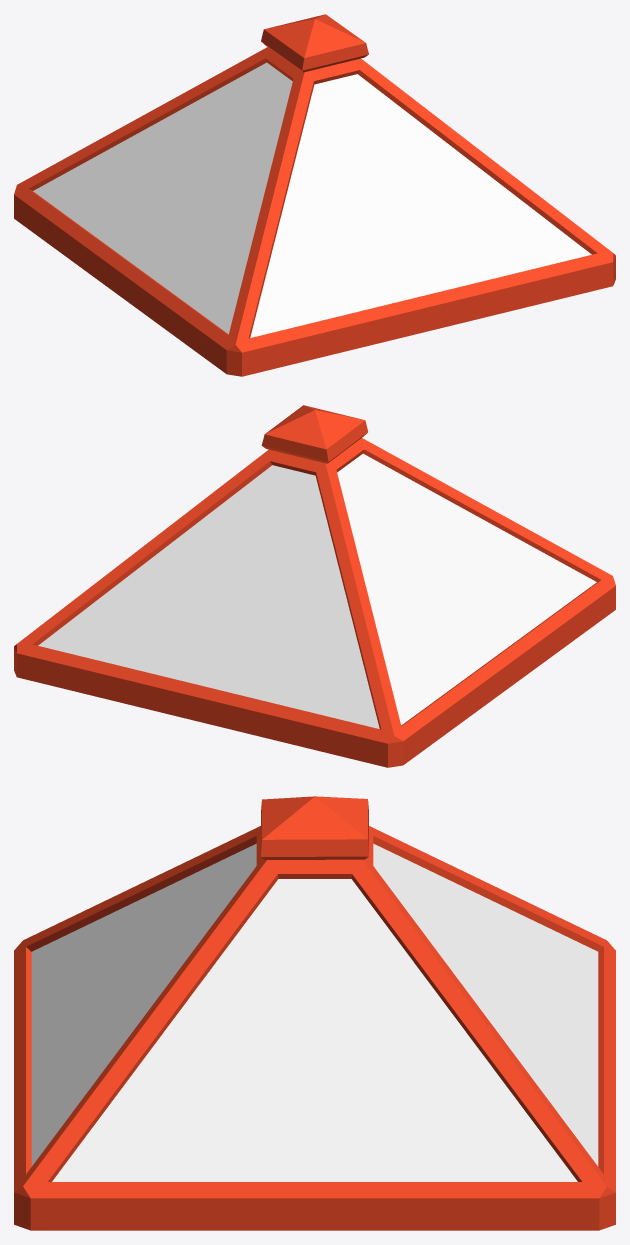
Rendered from SM_Window_Roof_C_City.fbx.
3 renders of one model, top to bottom at view 1: azimuth 30°, elevation 25°; view 2: azimuth 150°, elevation 25°; view 3: azimuth 270°, elevation 25°, orthographic. The views are drawn at different scales.
Parts seen in each view (by area): view 1: SM_Window_Roof_C_City; view 2: SM_Window_Roof_C_City; view 3: SM_Window_Roof_C_City.
Part boxes in pixels (bbox=[...]): SM_Window_Roof_C_City: bbox=[14, 14, 615, 376]; SM_Window_Roof_C_City: bbox=[14, 405, 615, 767]; SM_Window_Roof_C_City: bbox=[14, 796, 615, 1230].
Size of the model in its own units: 1.67 by 0.9431 by 1.67.
